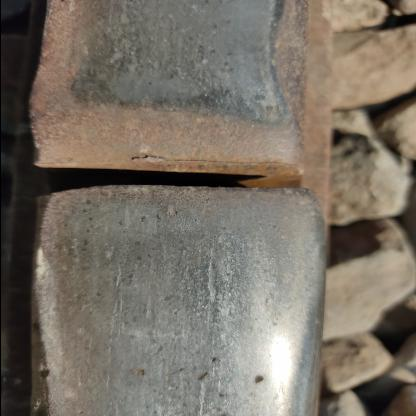Non Defective: (1, 24, 348, 331)
